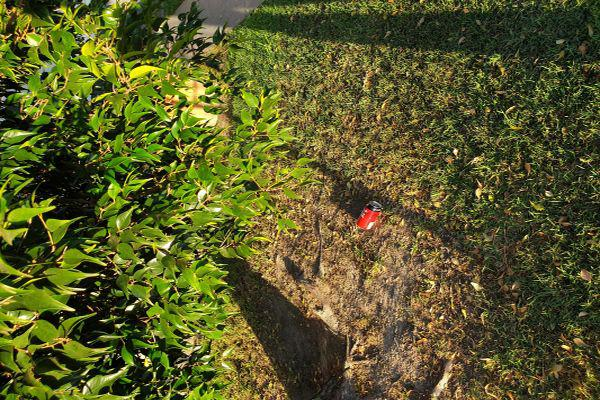Plastic Bottle: (356, 200, 382, 231)
